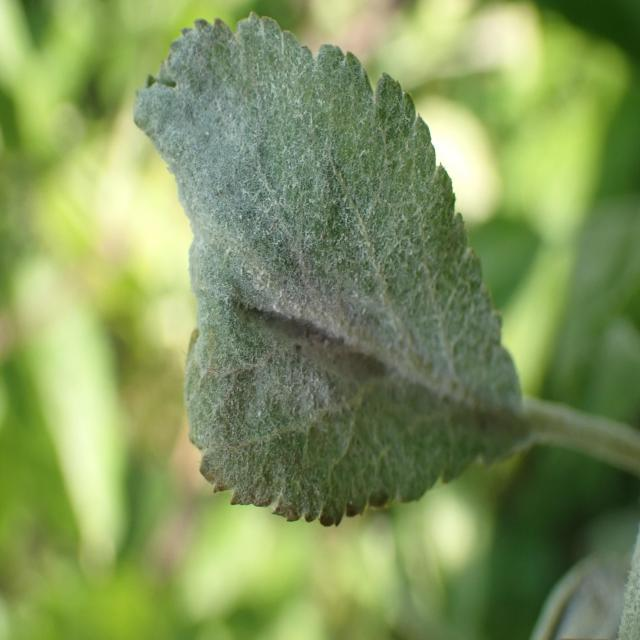Powdery_mildew: (136, 7, 517, 541)
